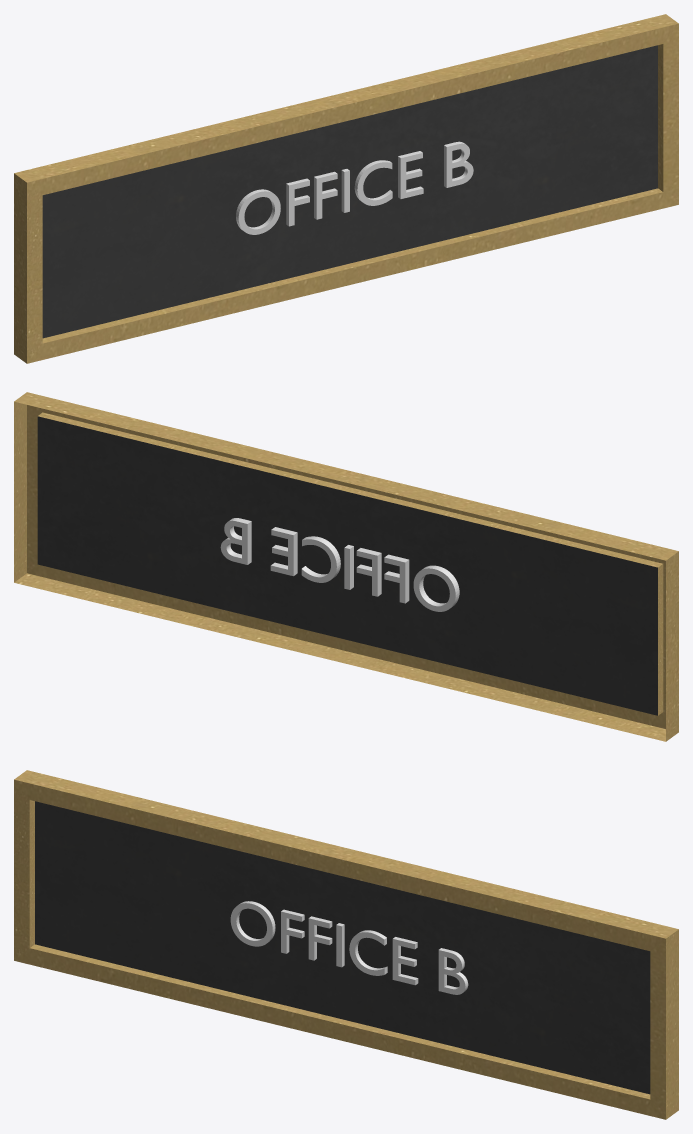
The model's file is Plate_OfficeB.fbx.
The picture shows the model from 3 angles, top to bottom: view 1: azimuth 30°, elevation 25°; view 2: azimuth 150°, elevation 25°; view 3: azimuth 330°, elevation 25°; orthographic projection.
Visible parts, largest first — view 1: NameplateBriefingRoom.007; view 2: NameplateBriefingRoom.007; view 3: NameplateBriefingRoom.007.
Part boxes in pixels (box(x1,y1,x2,y2)): NameplateBriefingRoom.007: box(14, 14, 678, 363); NameplateBriefingRoom.007: box(14, 392, 678, 741); NameplateBriefingRoom.007: box(14, 770, 678, 1119).
Size of the model in its own units: 29 by 7.7 by 1.
Materials: 3 (2 with a texture image).
